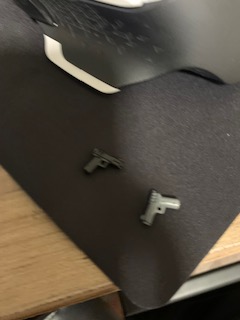pistol: (135, 186, 184, 229), (82, 147, 125, 179)
